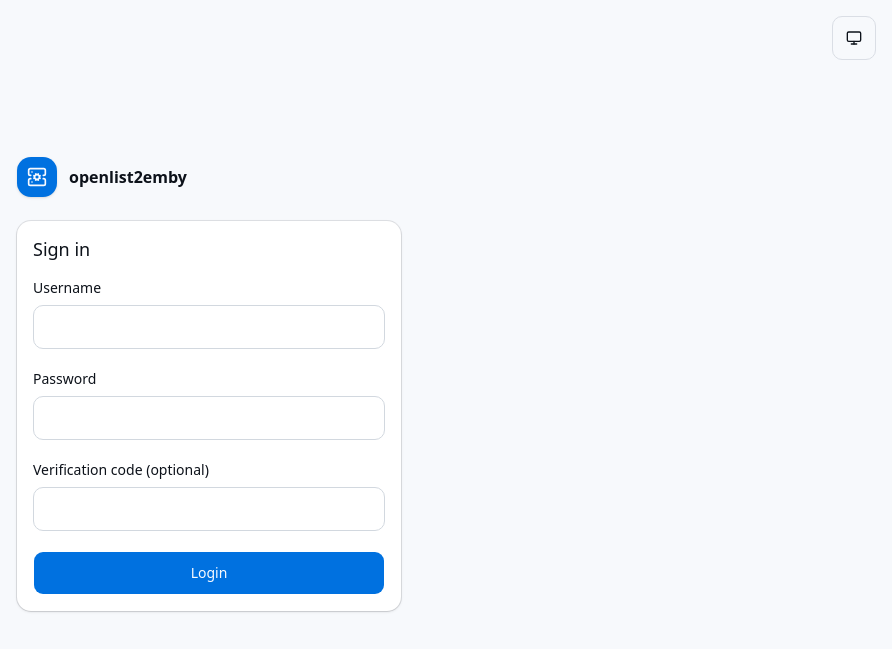
Test: OpenList login › keeps login available after a temporary upstream failure
In the field labelled "Username": (209, 327) [33, 305, 385, 349], type "alice"
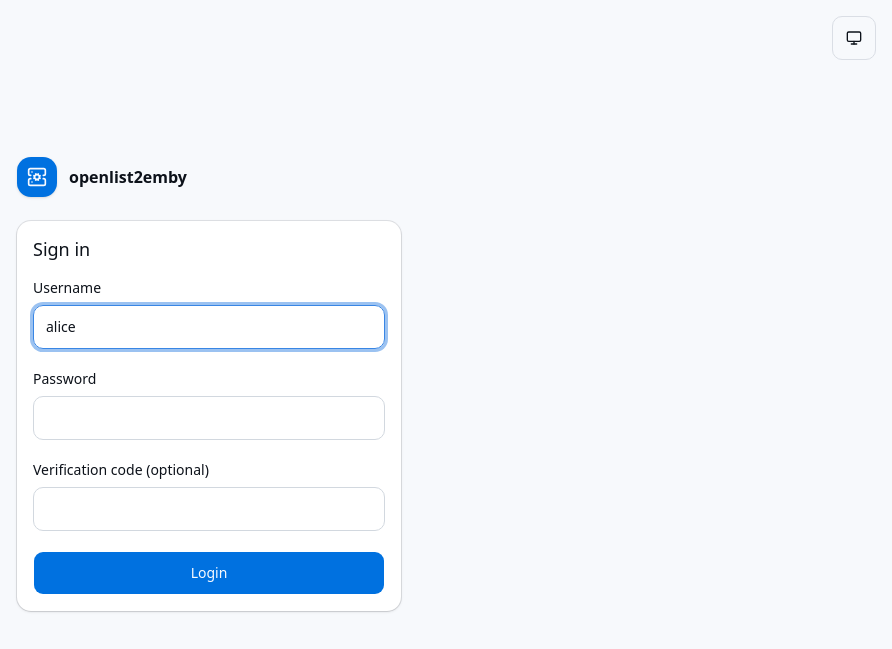
In the password field labelled "Password": (209, 418) [33, 396, 385, 440], type "synthetic-password"
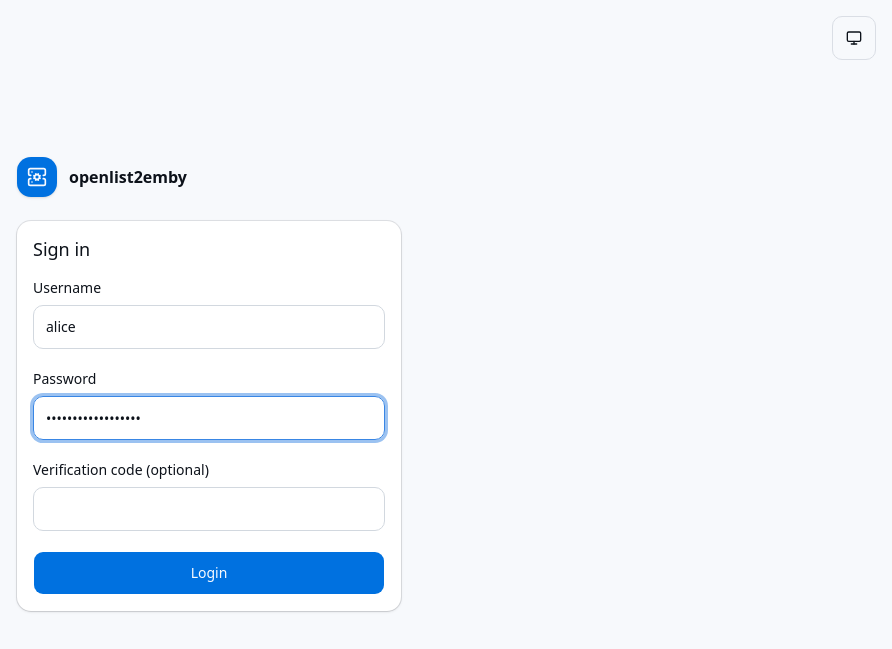
Click the button "Login": (209, 573) [33, 551, 385, 595]
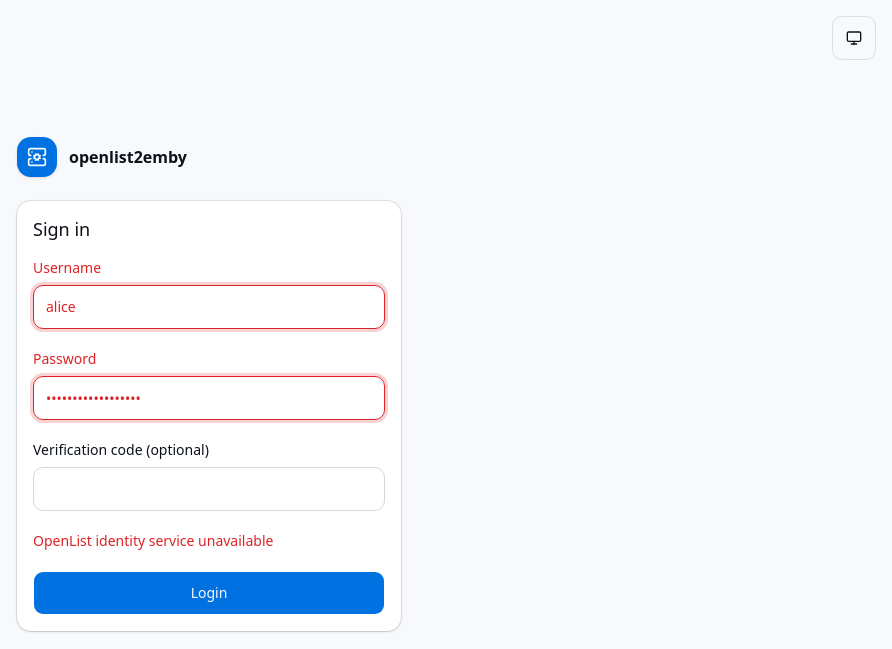
Expected: the button "Login" is enabled, [33, 571, 385, 615]
Expected: the text "OpenList identity service unavailable" is shown, [33, 531, 273, 550]
